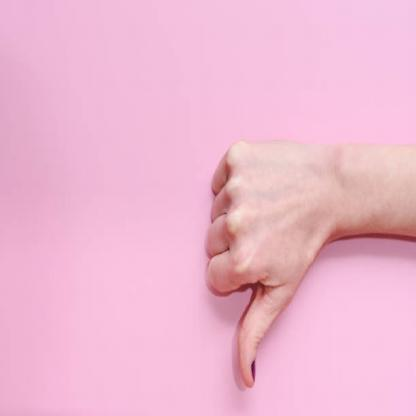thumb_down: (203, 132, 318, 392)
